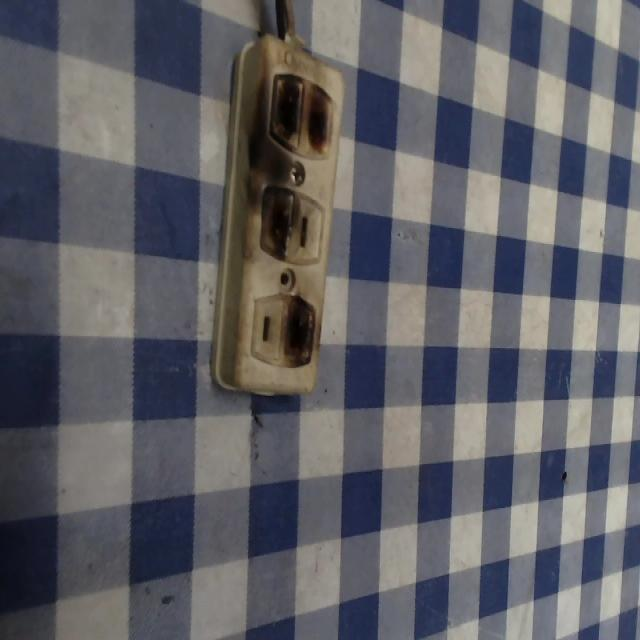-: (265, 64, 336, 157), (257, 180, 294, 259), (284, 292, 320, 367)
